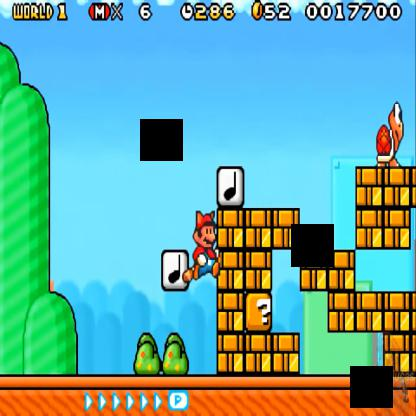Mario: (185, 210, 223, 283)
koopa: (376, 100, 405, 168)
moneda: (251, 1, 265, 24)
